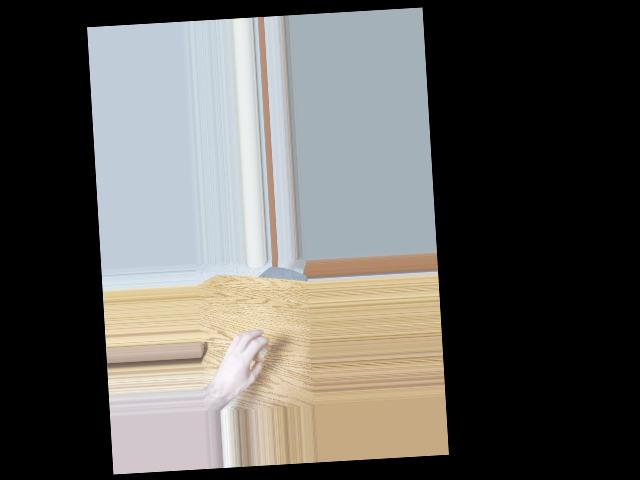onion: (247, 334, 268, 363)
